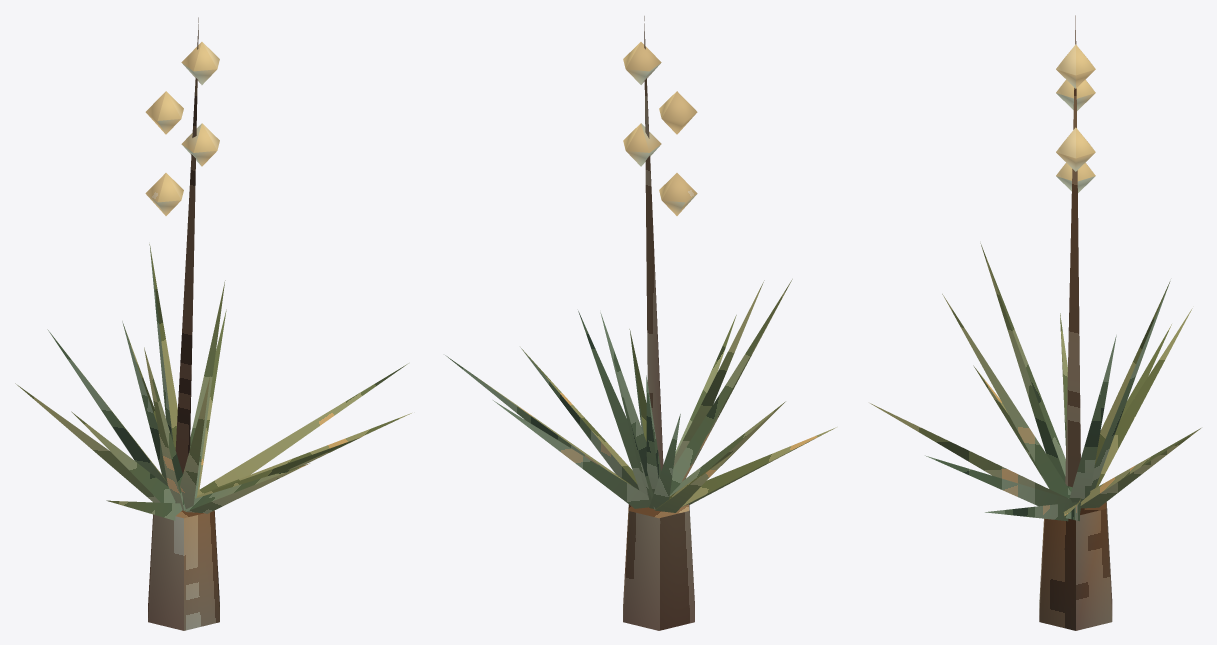
The model's file is wland.yucca.glb.
The picture shows the model from 3 angles, left to right: view 1: azimuth 30°, elevation 25°; view 2: azimuth 150°, elevation 25°; view 3: azimuth 270°, elevation 25°; orthographic projection.
Visible parts, largest first — view 1: kit_leaves, kit_trunk, kit_blooms, kit_stalk; view 2: kit_leaves, kit_trunk, kit_blooms, kit_stalk; view 3: kit_leaves, kit_trunk, kit_stalk, kit_blooms.
Boxes of the visible parts, x1,y1,x2,y2 form: kit_leaves: (15, 244, 411, 520); kit_trunk: (148, 510, 219, 630); kit_blooms: (145, 42, 219, 215); kit_stalk: (175, 17, 198, 473); kit_leaves: (445, 279, 836, 512); kit_trunk: (623, 504, 694, 630); kit_blooms: (623, 42, 697, 215); kit_stalk: (644, 16, 663, 470); kit_leaves: (870, 243, 1200, 521); kit_trunk: (1039, 502, 1112, 630); kit_stalk: (1065, 15, 1080, 487); kit_blooms: (1056, 44, 1095, 192).
Bounding box in the file's own units: 1.17 × 1.9 × 0.9535.
Materials: 3 (3 with a texture image).
